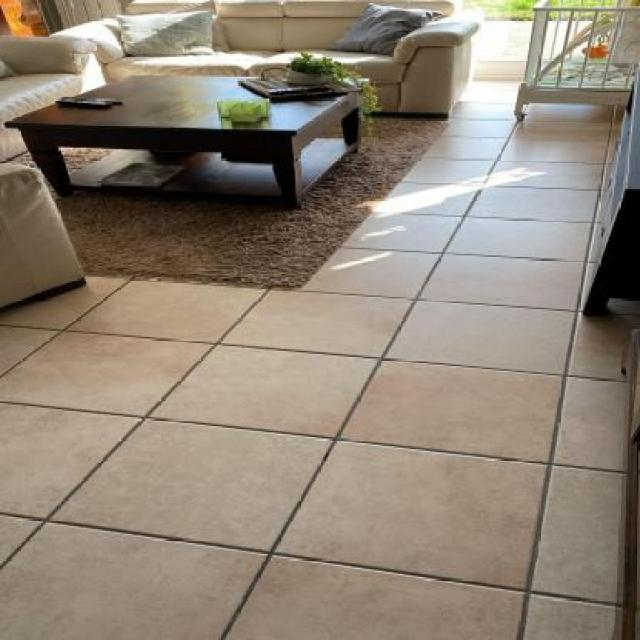Floor: (0, 77, 639, 639)
